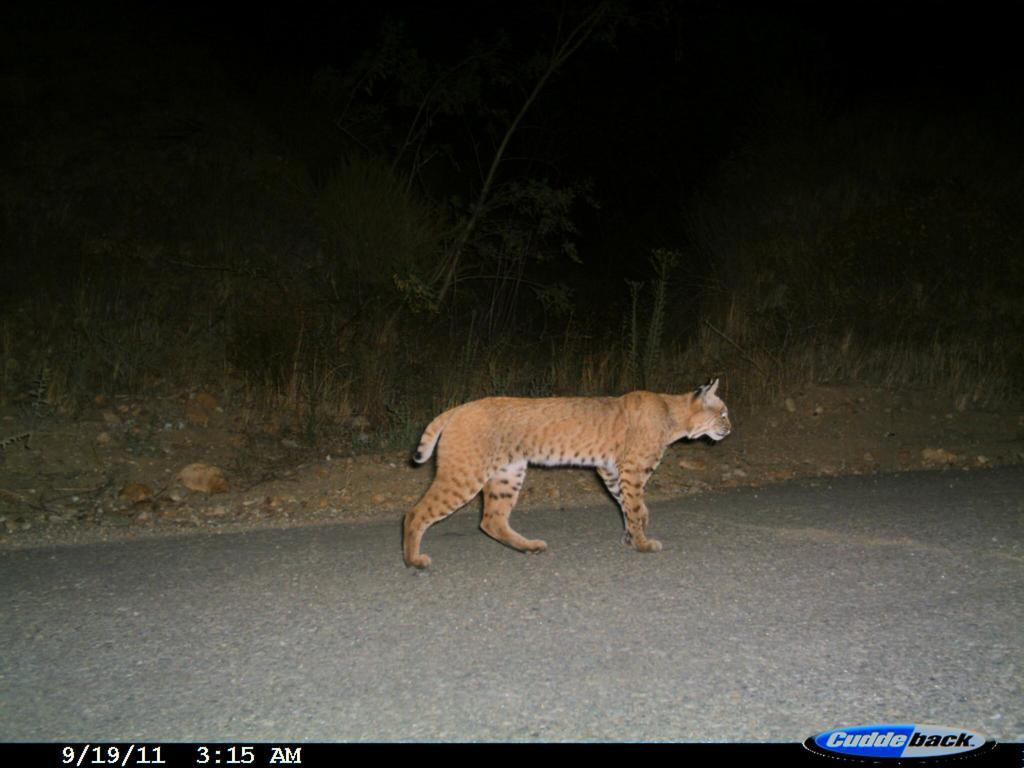bobcat: (396, 372, 738, 575)
